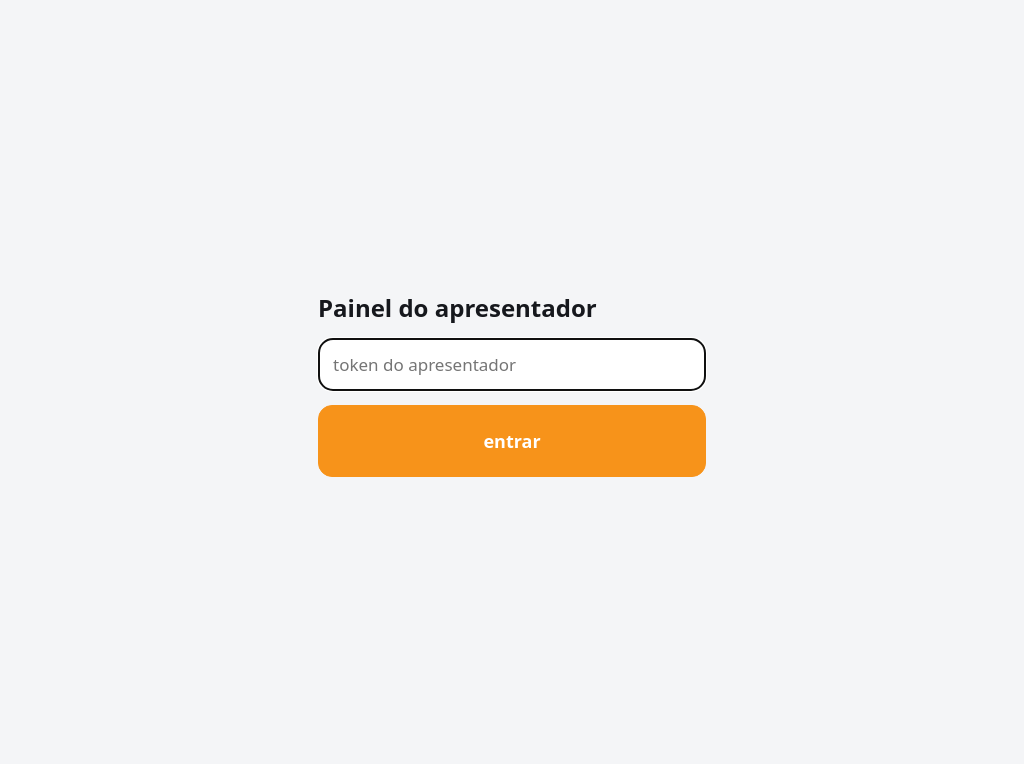
Test case: asks for the admin token once and stores it
This screenshot has width=1024, height=764.
Type "segredo" into the password field labelled "token do apresentador" at x=512, y=364, box [318, 338, 706, 391]
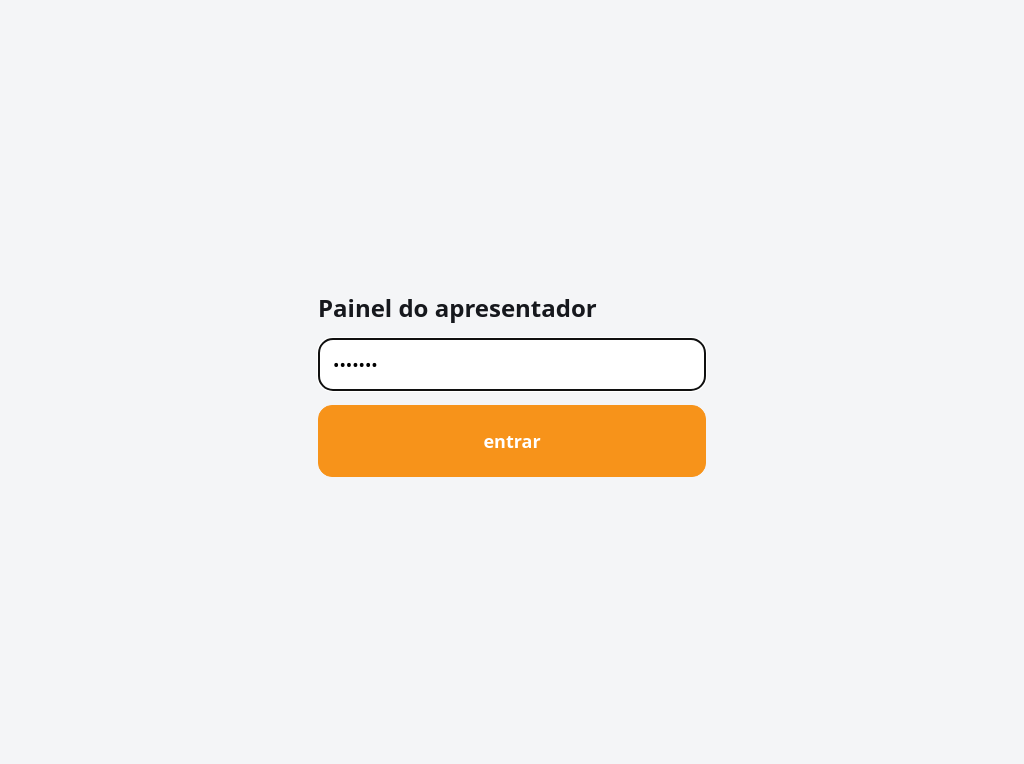
Click the button "entrar" at x=512, y=441, box [318, 405, 706, 477]
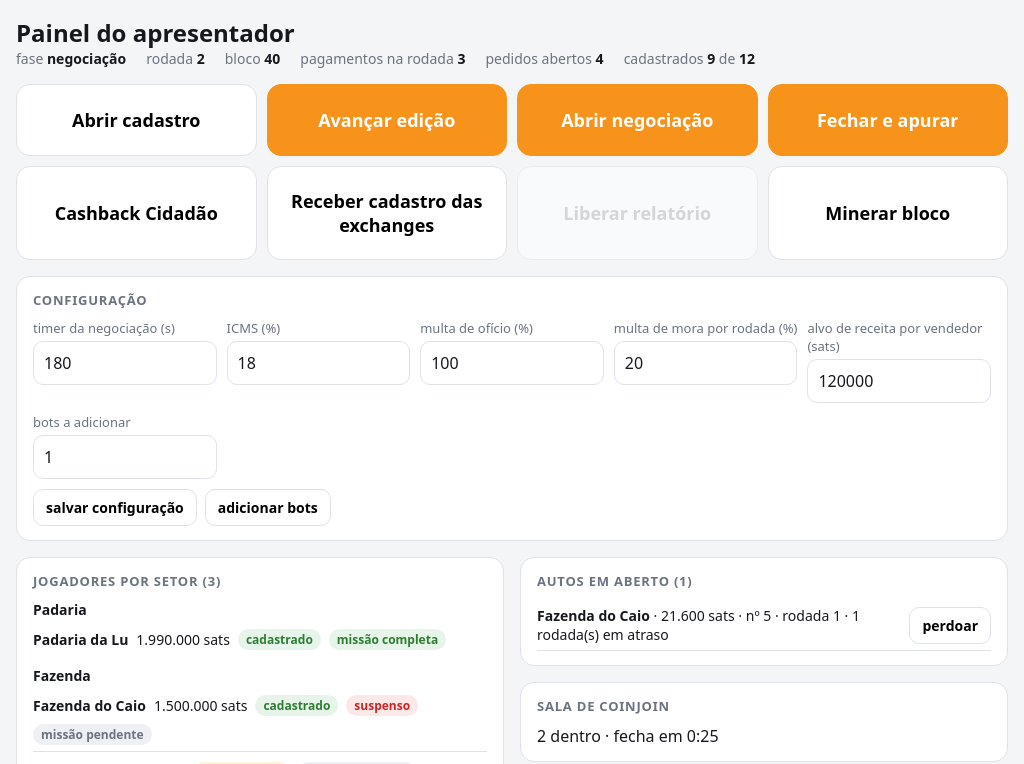
expect the button "Avançar edição" is shown: met, box [266, 84, 507, 156]
